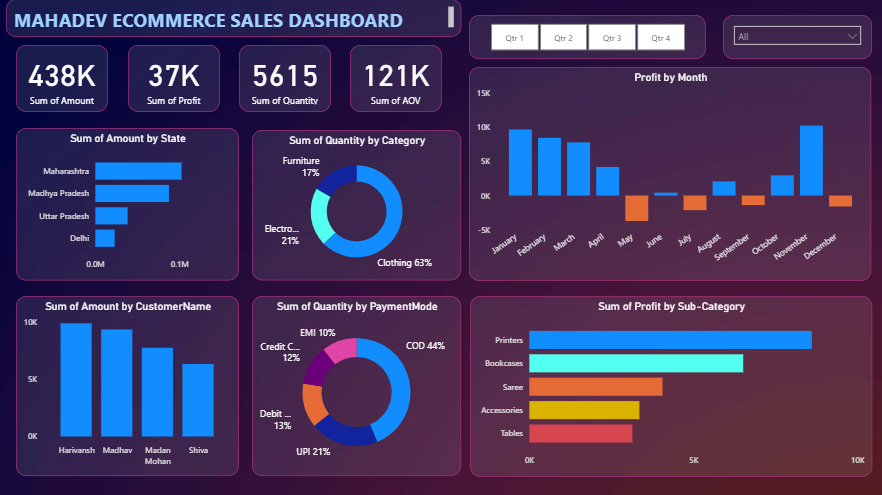

Layout of this report page (visuals, bound fields, positions):
{"tool":"powerbi","page":{"name":"Page 1","canvas":[1280,720],"ordinal":0},"visuals":[{"type":"textbox","box":[9.9,0,660.5,55.3],"z":0},{"type":"columnChart","title":" Profit by Month","fields":{"Y":["Sum(Details.Profit)"],"Category":["Orders.Order Date.Variation.Date Hierarchy.Month"]},"box":[681.8,98.3,583.5,309.8],"z":1000},{"type":"barChart","fields":{"Category":["Details.Sub-Category"],"Y":["Sum(Details.Profit)"]},"box":[682.6,430.5,582.7,261.9],"z":2000},{"type":"donutChart","fields":{"Category":["Details.Category"],"Y":["Sum(Details.Quantity)"]},"box":[367.1,190.1,303.2,218],"z":3000},{"type":"donutChart","fields":{"Y":["Sum(Details.Quantity)"],"Category":["Details.PaymentMode"]},"box":[367.1,431,303.2,260.6],"z":4000},{"type":"card","fields":{"Values":["Sum(Details.Amount)"]},"box":[24.6,67.2,132.8,96.7],"z":5000},{"type":"card","fields":{"Values":["Sum(Details.Quantity)"]},"box":[347.5,67.2,132.8,96.7],"z":6000},{"type":"card","fields":{"Values":["Sum(Details.Profit)"]},"box":[186.8,67.2,132.8,96.7],"z":7000},{"type":"card","fields":{"Values":["Sum(Details.AOV)"]},"box":[508.1,67.2,132.8,96.7],"z":8000},{"type":"barChart","fields":{"Category":["Orders.State"],"Y":["Sum(Details.Amount)"]},"box":[24.6,186.8,322.9,221.3],"z":9000},{"type":"columnChart","fields":{"Category":["Orders.CustomerName"],"Y":["Sum(Details.Amount)"]},"box":[24.6,431,322.9,260.6],"z":10000},{"type":"slicer","fields":{"Values":["Orders.Order Date.Variation.Date Hierarchy.Quarter"]},"box":[681.8,22.9,342.5,63.9],"z":11000},{"type":"slicer","fields":{"Values":["Orders.State"]},"box":[1048.9,22.9,216.3,63.9],"z":12000}]}

Visuals, with their boxes in screenshot pixels (x1, y1, x2, y2), scaled from the page's 1280x720 canvas onto the 882x495 screenshot:
textbox: locate(7, 0, 462, 38)
" Profit by Month" columnChart: locate(470, 68, 872, 281)
barChart - Details.Sub-Category x Sum(Details.Profit): locate(470, 296, 872, 476)
donutChart - Details.Category x Sum(Details.Quantity): locate(253, 131, 462, 281)
donutChart - Sum(Details.Quantity) x Details.PaymentMode: locate(253, 296, 462, 475)
card - Sum(Details.Amount): locate(17, 46, 108, 113)
card - Sum(Details.Quantity): locate(239, 46, 331, 113)
card - Sum(Details.Profit): locate(129, 46, 220, 113)
card - Sum(Details.AOV): locate(350, 46, 442, 113)
barChart - Orders.State x Sum(Details.Amount): locate(17, 128, 239, 281)
columnChart - Orders.CustomerName x Sum(Details.Amount): locate(17, 296, 239, 475)
slicer - Orders.Order Date.Variation.Date Hierarchy.Quarter: locate(470, 16, 706, 60)
slicer - Orders.State: locate(723, 16, 872, 60)
